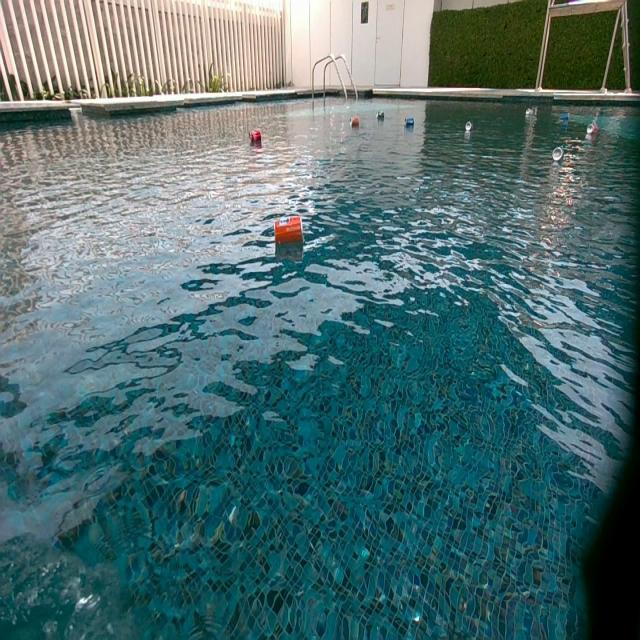Cans: (274, 216, 302, 246), (552, 145, 564, 163), (249, 130, 262, 146), (587, 122, 599, 138), (406, 115, 416, 127), (351, 115, 359, 128), (376, 111, 386, 121), (559, 112, 570, 121), (526, 107, 536, 116), (464, 120, 472, 130)
